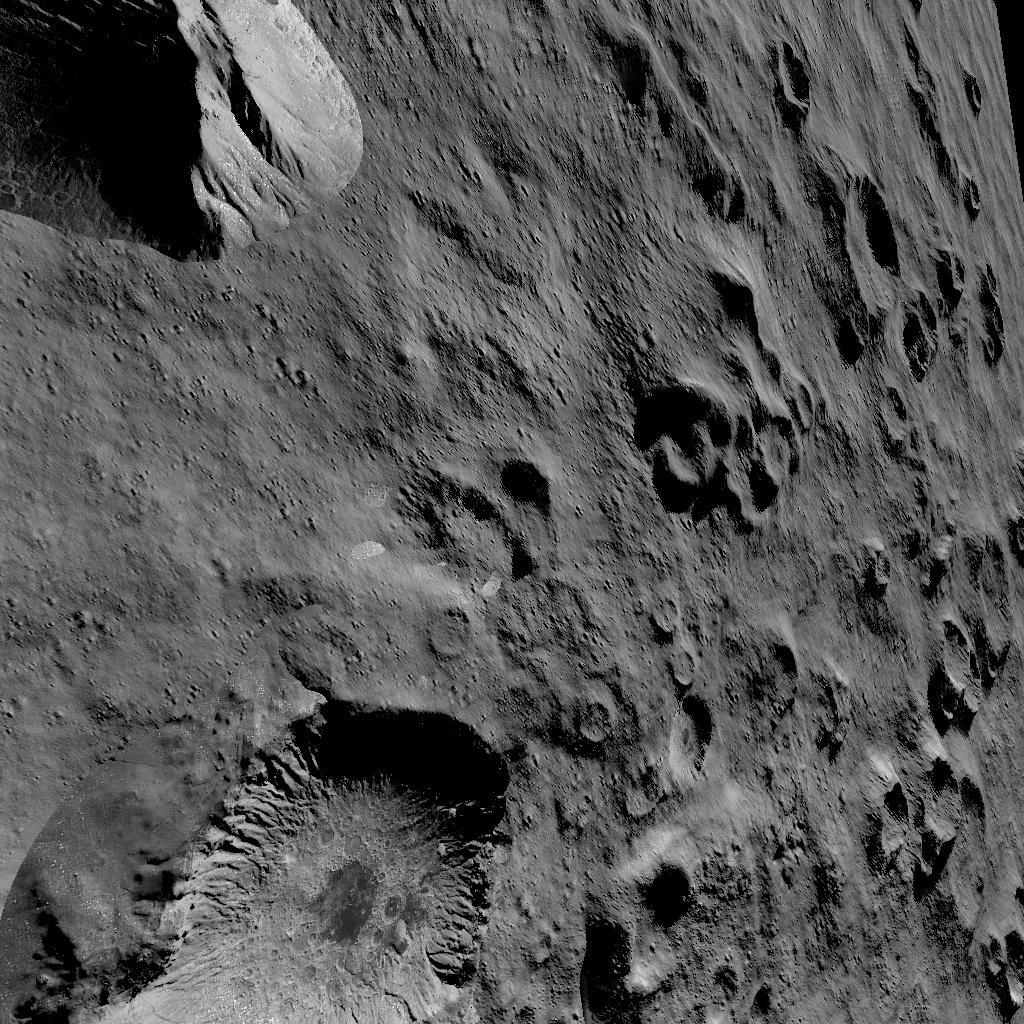Boulders: (3, 0, 363, 260)
Crater: (3, 700, 522, 1024), (563, 838, 770, 1024), (627, 356, 818, 537), (858, 735, 992, 916), (408, 460, 566, 578), (775, 166, 884, 320), (625, 596, 714, 774), (890, 244, 996, 382), (908, 612, 1006, 726), (758, 40, 828, 124), (947, 926, 1024, 1000), (731, 632, 784, 714), (414, 604, 477, 665), (871, 390, 922, 457), (829, 534, 877, 602), (549, 694, 602, 750), (960, 78, 994, 126), (958, 178, 992, 222)
Plan surface: (0, 268, 379, 688), (391, 2, 600, 452)
